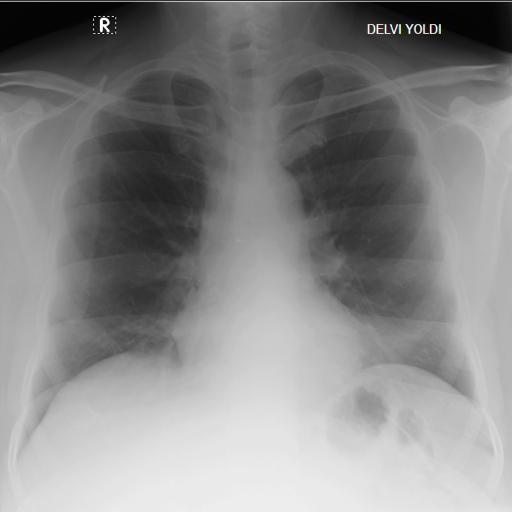normal: (6, 36, 506, 482)
